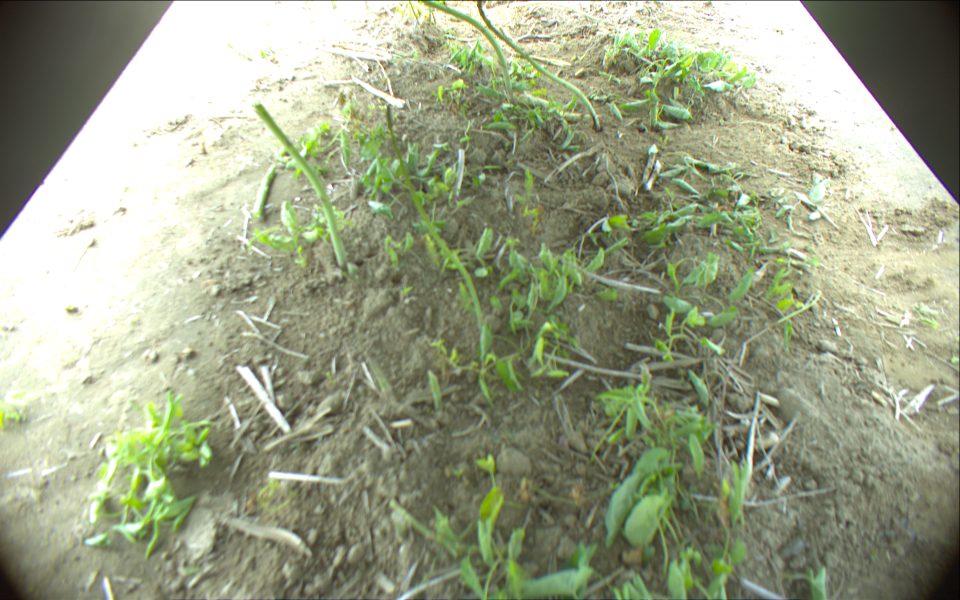aspa: (383, 103, 486, 342), (476, 1, 602, 130), (254, 102, 350, 268), (418, 1, 514, 103), (365, 351, 396, 405), (255, 163, 278, 218), (406, 1, 419, 24), (429, 1, 439, 27), (425, 1, 433, 26)
